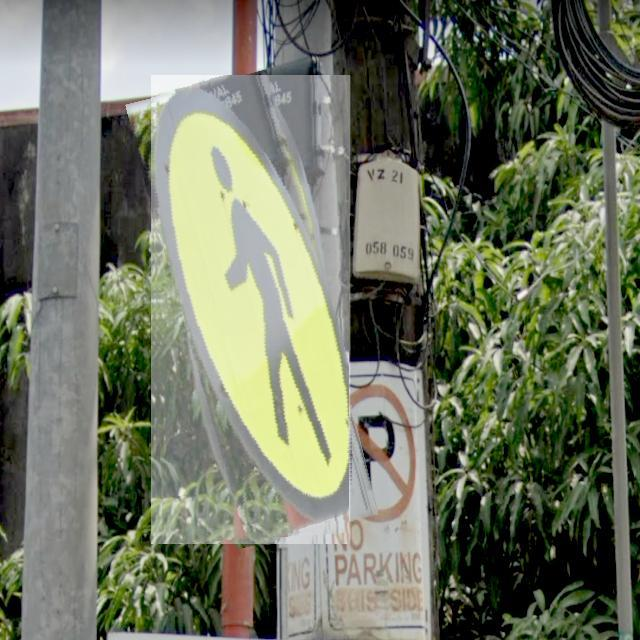pedestrian crossing: (152, 75, 352, 544)
